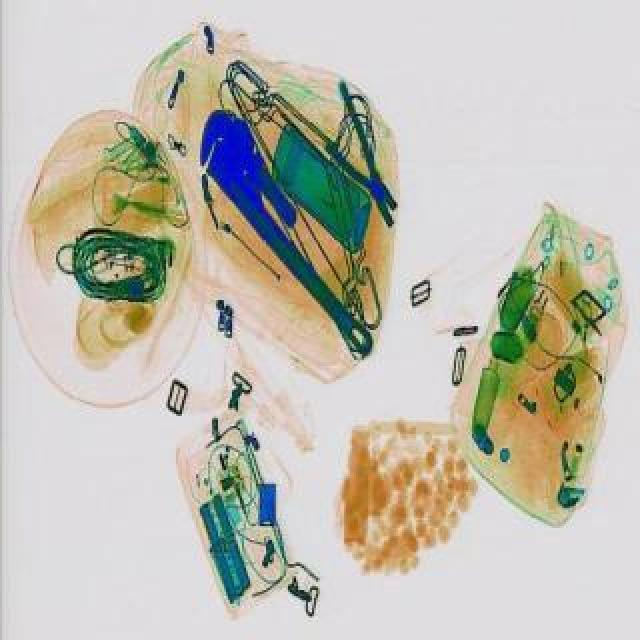scissors: (174, 100, 406, 364)
wrench: (296, 80, 420, 232)
